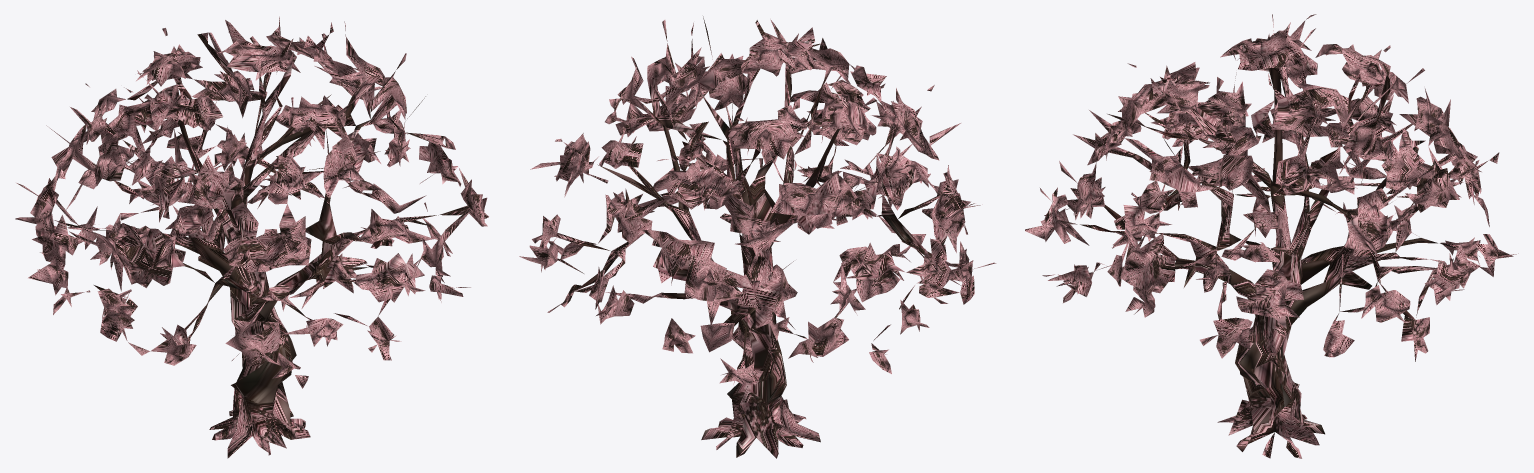
File: peach-low.glb
The picture shows the model from 3 angles, left to right: view 1: azimuth 30°, elevation 25°; view 2: azimuth 150°, elevation 25°; view 3: azimuth 270°, elevation 25°; orthographic projection.
Size of the model in its own units: 0.9588 by 0.8889 by 0.9855.
1 material, 1 textured.
